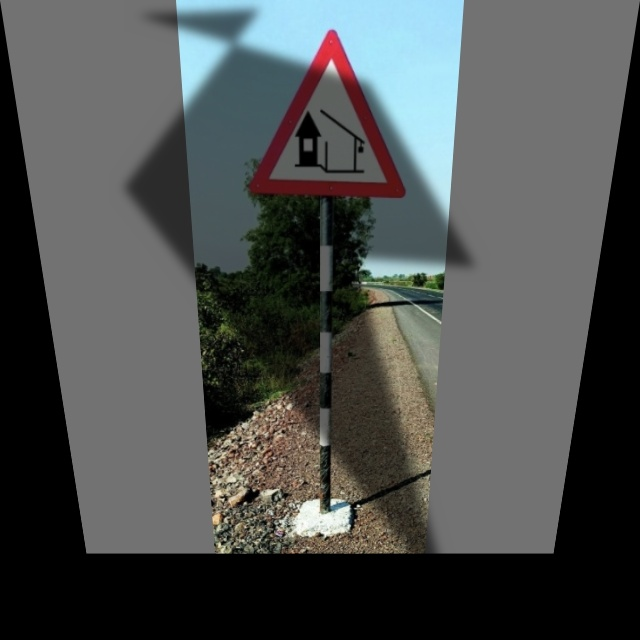Barrier_Ahead: (248, 33, 411, 195)
